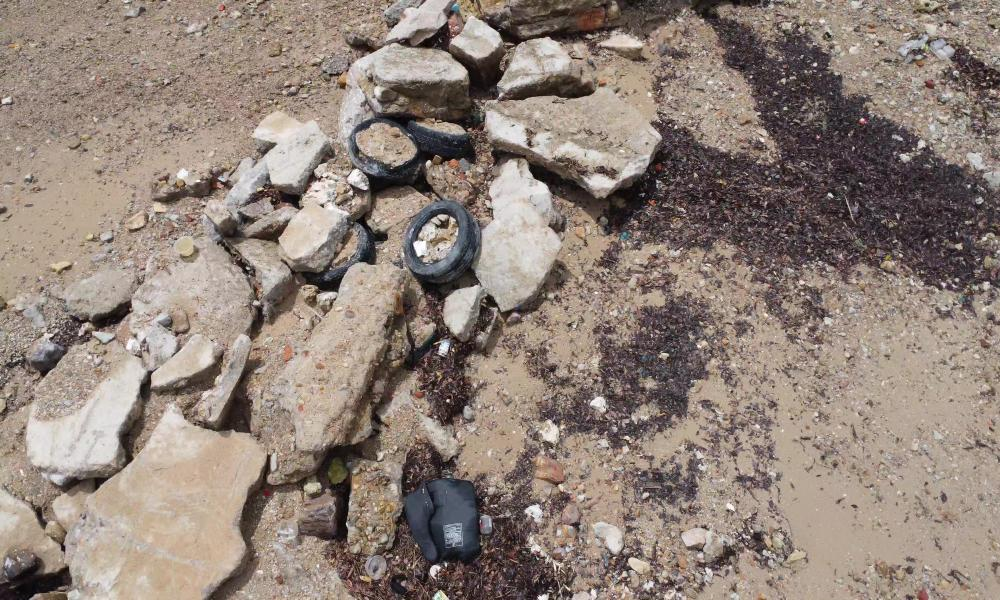tire: (400, 200, 481, 280), (347, 114, 417, 177), (406, 110, 474, 156), (330, 209, 373, 280)
